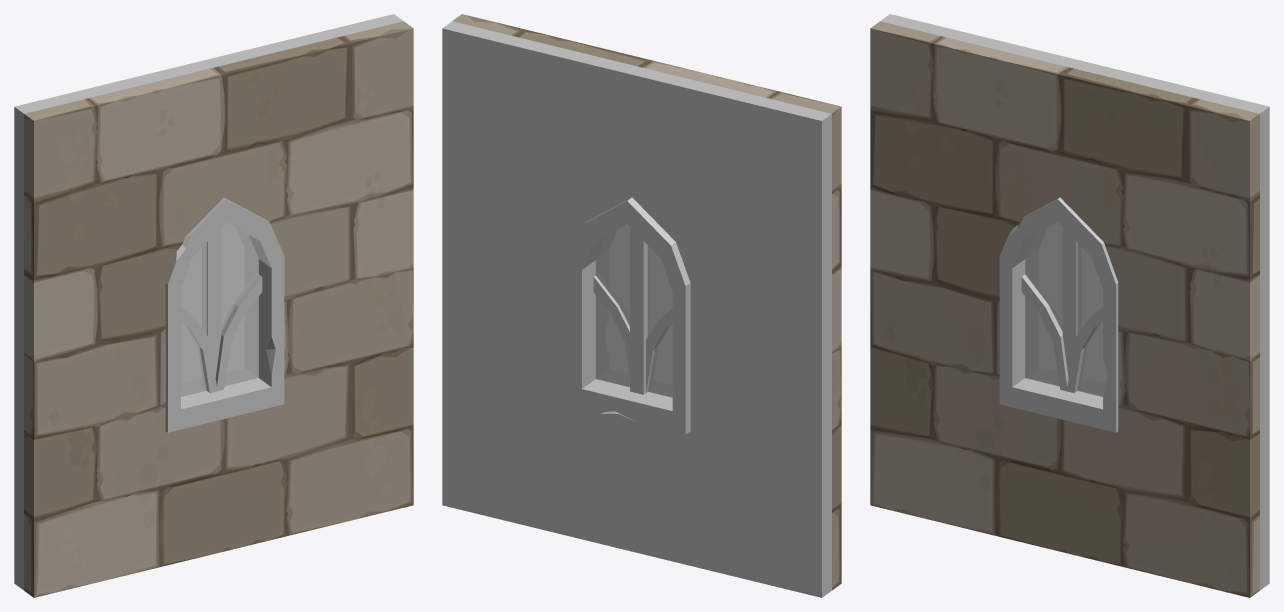
Rendered from SM_Bld_Wall_Window_01.fbx.
The picture shows the model from 3 angles, left to right: view 1: azimuth 30°, elevation 25°; view 2: azimuth 150°, elevation 25°; view 3: azimuth 330°, elevation 25°; orthographic projection.
Visible parts, largest first — view 1: SM_Bld_Wall_Window_01, SM_Bld_Wall_Window_01_Glass; view 2: SM_Bld_Wall_Window_01, SM_Bld_Wall_Window_01_Glass; view 3: SM_Bld_Wall_Window_01, SM_Bld_Wall_Window_01_Glass.
Part boxes in pixels (x1,y1,x2,y2): SM_Bld_Wall_Window_01: (14, 14, 413, 597); SM_Bld_Wall_Window_01_Glass: (181, 222, 258, 396); SM_Bld_Wall_Window_01: (442, 14, 841, 597); SM_Bld_Wall_Window_01_Glass: (595, 224, 672, 397); SM_Bld_Wall_Window_01: (870, 14, 1269, 597); SM_Bld_Wall_Window_01_Glass: (1025, 222, 1107, 396).
Size of the model in its own units: 250 by 300 by 30.61.
